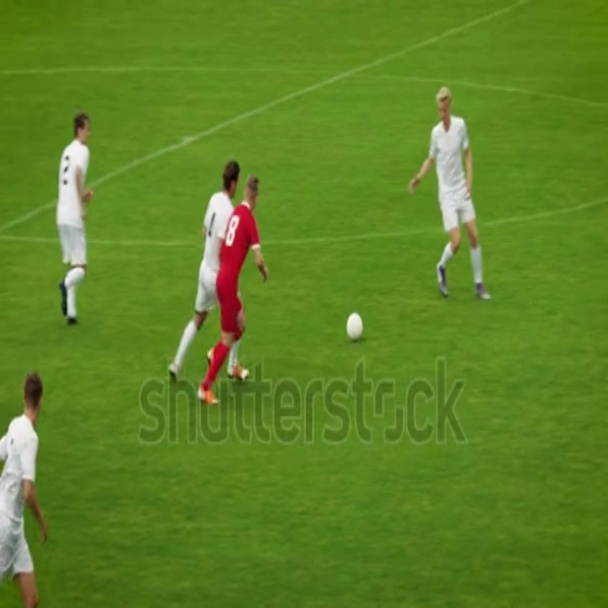ball: (348, 310, 366, 346)
